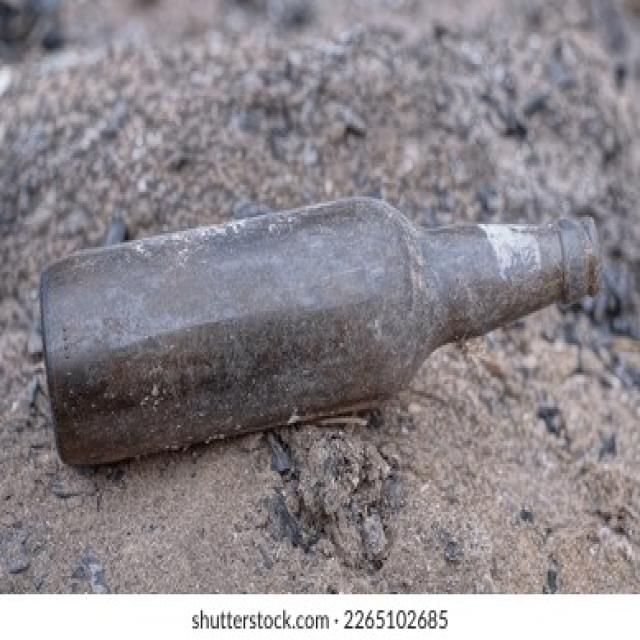glass: (39, 180, 618, 455)
